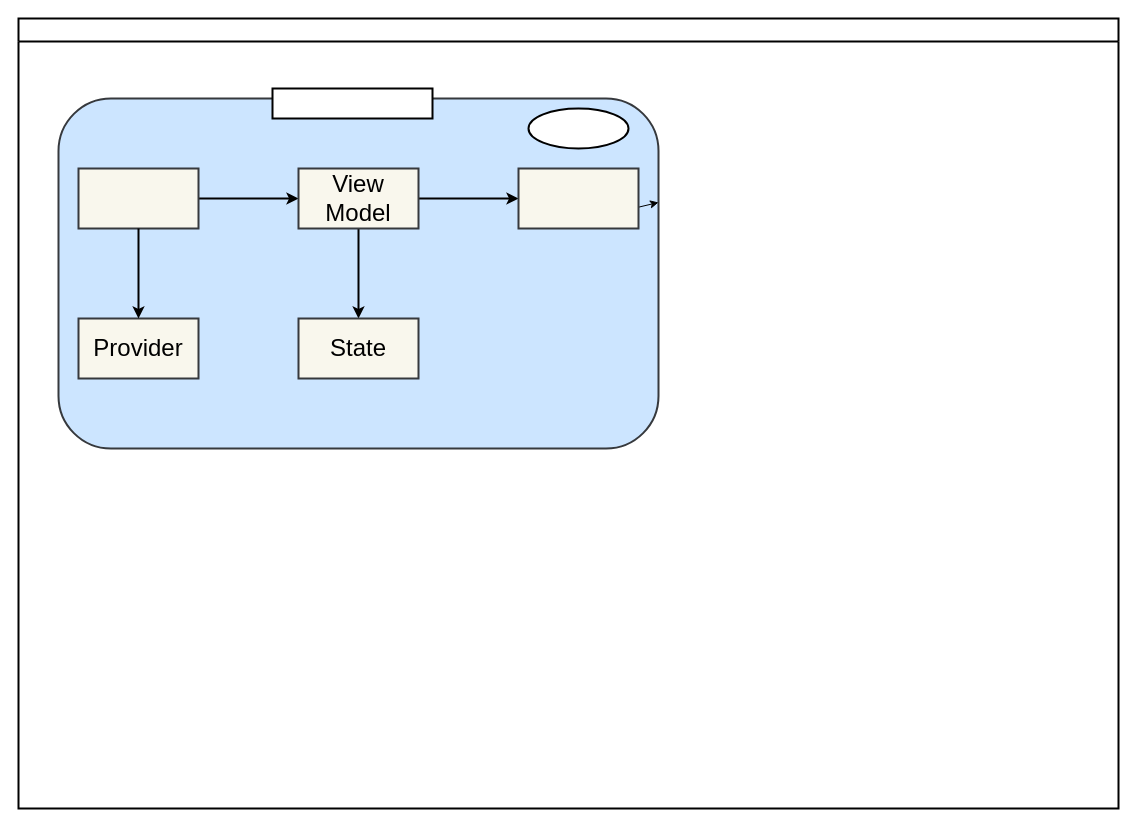
Some shapes in this 1136 by 826 pixel diagram are drawn without their labels. Here are the shapes that lost their labels. From the top down, the centre of each, then its label:
At (x=352, y=103): "Presenter".
At (x=138, y=198): "View".
At (x=578, y=198): "Model".
